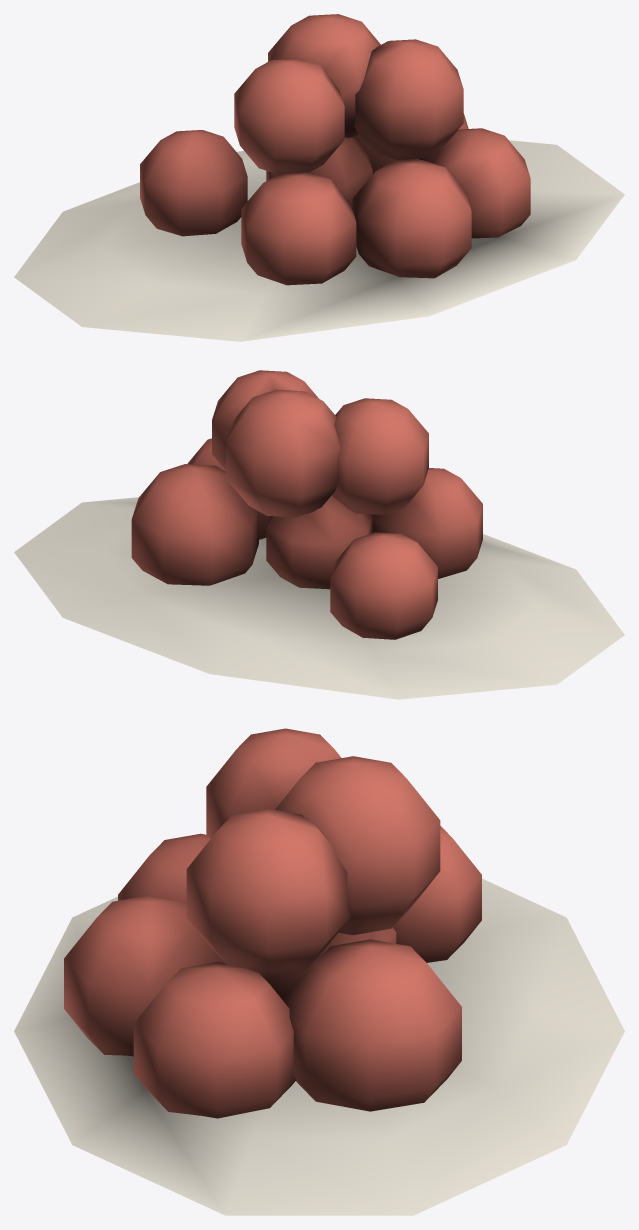
File: forage_berries.glb
3 views of the same model, one above another, from view 1: azimuth 30°, elevation 25°; view 2: azimuth 150°, elevation 25°; view 3: azimuth 270°, elevation 25° (orthographic). The views are drawn at different scales.
Parts seen in each view (by area): view 1: PART; view 2: PART; view 3: PART.
Part boxes in pixels (bbox=[...]): PART: bbox=[14, 14, 624, 341]; PART: bbox=[14, 370, 624, 699]; PART: bbox=[14, 728, 624, 1215].
Bounding box in the file's own units: 0.1027 × 0.0408 × 0.072.
